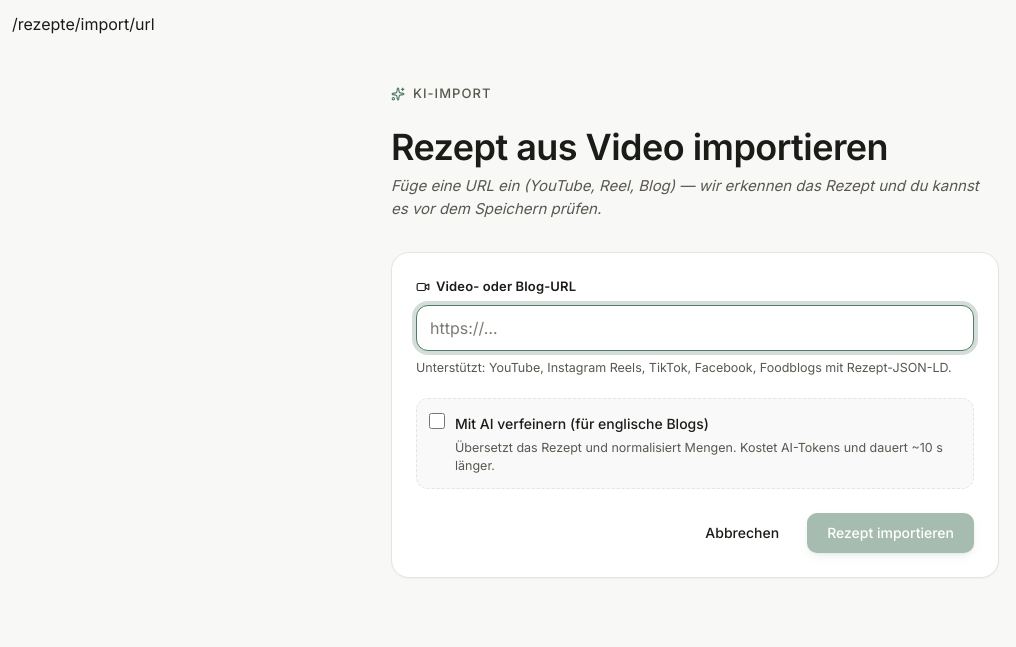
Scenario: <ImportUrlPage /> › surfaces a generic German fallback on 5xx without leaking raw message
Type "https://example.com/r" into the field labelled "Video- oder Blog-URL".
click(695, 328); type("https://example.com/r")  # box [416, 305, 974, 351]
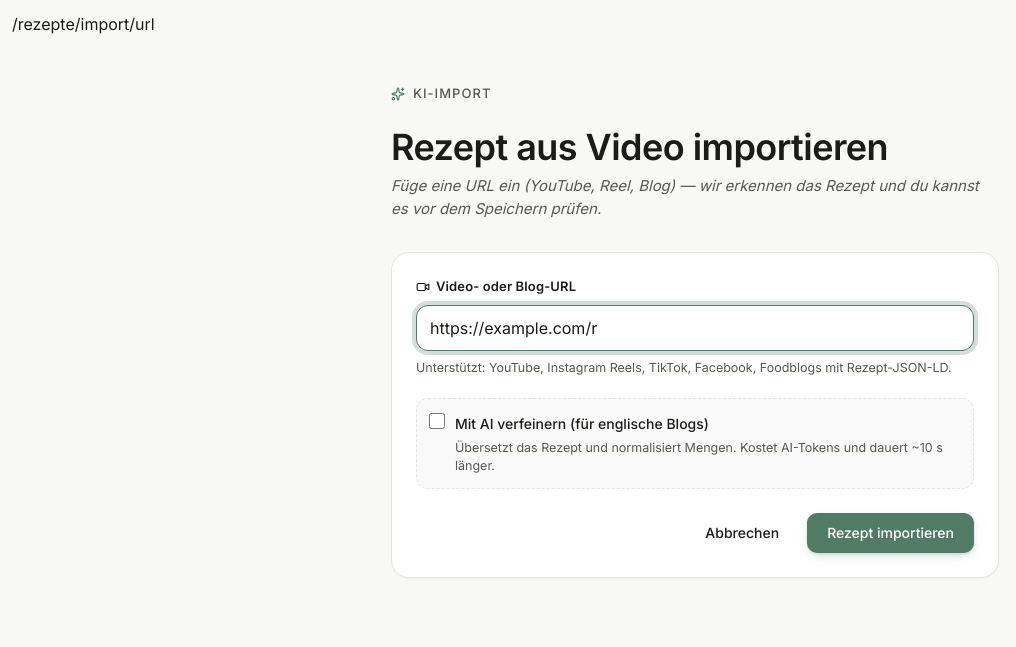
Click the button "Rezept importieren".
click(891, 533)  # box [807, 513, 974, 553]
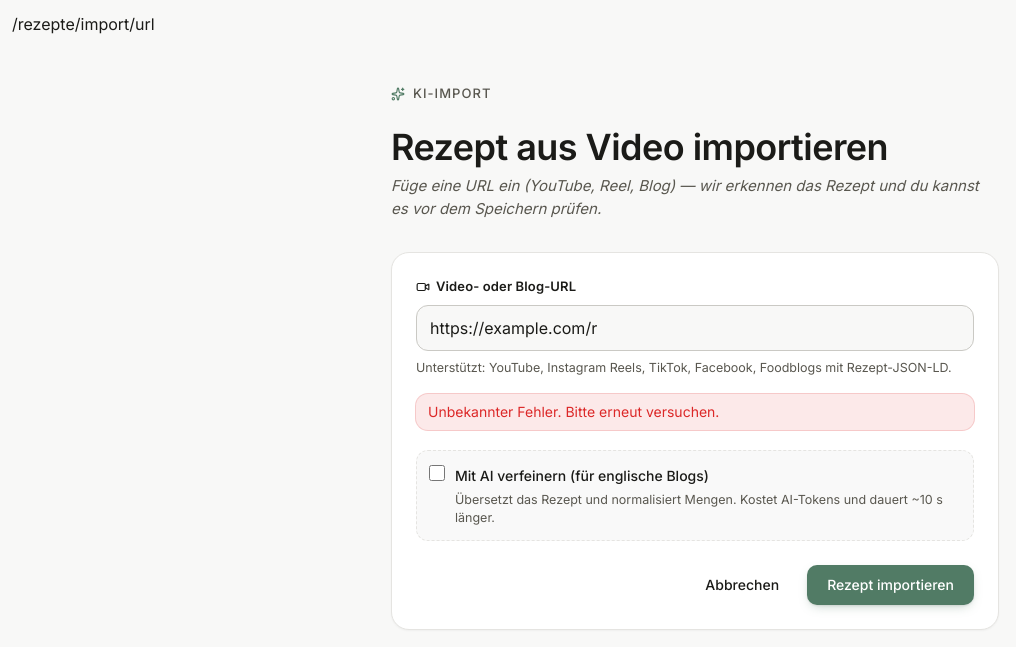
Expected: the message does not show "yt-dlp crashed", [416, 394, 974, 430]
Expected: the message shows "Unbekannter Fehler", [428, 403, 719, 420]
